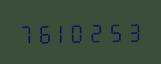five: (107, 19, 124, 43)
one: (53, 20, 70, 44)
seven: (17, 21, 34, 44)
six: (35, 20, 52, 44)
three: (125, 19, 142, 42)
two: (89, 19, 106, 43)
zero: (71, 20, 88, 43)
